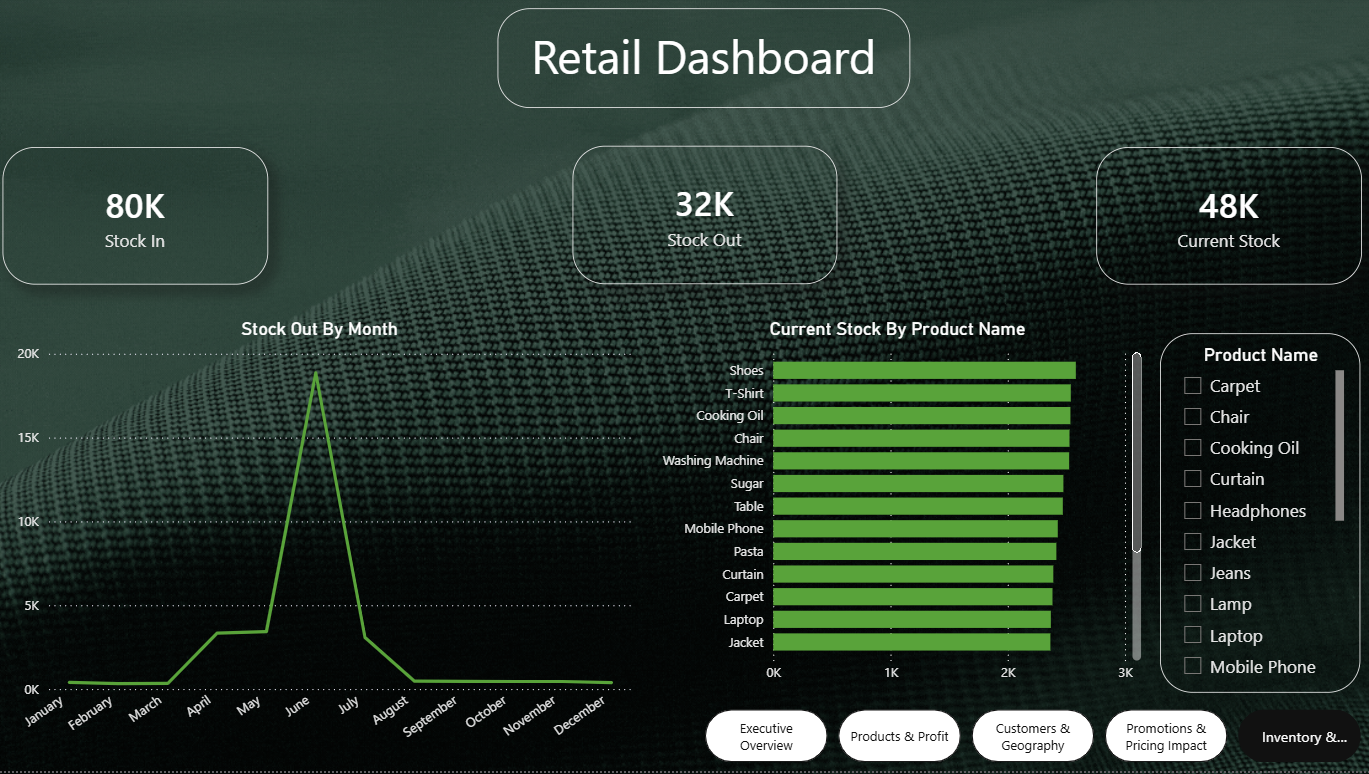

The dashboard page shown, as its layout file describes it:
{"tool":"powerbi","page":{"name":"Inventory & Stock","canvas":[1280,720],"ordinal":4},"visuals":[{"type":"cardVisual","fields":{"Data":["Measure Table.Stock In"]},"box":[6.7,139.2,247,128.3],"z":0},{"type":"cardVisual","fields":{"Data":["Measure Table.Stock Out"]},"box":[537.4,138.9,246.7,128.5],"z":1000},{"type":"cardVisual","fields":{"Data":["Measure Table.Current Stock"]},"box":[1025,139.2,247,128.3],"z":2000},{"type":"lineChart","title":"Stock Out By Month","fields":{"Y":["Measure Table.Stock Out"],"Category":["Inventory_Transactions.transaction_date.Variation.Date Hierarchy.Month"]},"box":[6.9,298.4,590,413.2],"z":3000},{"type":"barChart","title":"Current Stock By Product Name","fields":{"Category":["Products.product_name"],"Y":["Measure Table.Current Stock"]},"box":[608.1,298.4,463.2,347.6],"z":4000},{"type":"slicer","title":"Product Name","fields":{"Values":["Products.product_name"]},"box":[1084.2,312.2,186.3,334.7],"z":5000},{"type":"pageNavigator","box":[660.8,662.5,610,49.2],"z":6000},{"type":"textbox","box":[468,10.4,383.8,93.2],"z":7000}]}

Visuals, with their boxes in screenshot pixels (x1, y1, x2, y2), scaled from the page's 1280x720 canvas onto the 1369x774 screenshot:
cardVisual - Measure Table.Stock In: 7, 150, 271, 288
cardVisual - Measure Table.Stock Out: 575, 149, 839, 287
cardVisual - Measure Table.Current Stock: 1096, 150, 1360, 288
"Stock Out By Month" lineChart: 7, 321, 638, 765
"Current Stock By Product Name" barChart: 650, 321, 1146, 694
"Product Name" slicer: 1160, 336, 1359, 695
pageNavigator: 707, 712, 1359, 765
textbox: 501, 11, 911, 111
